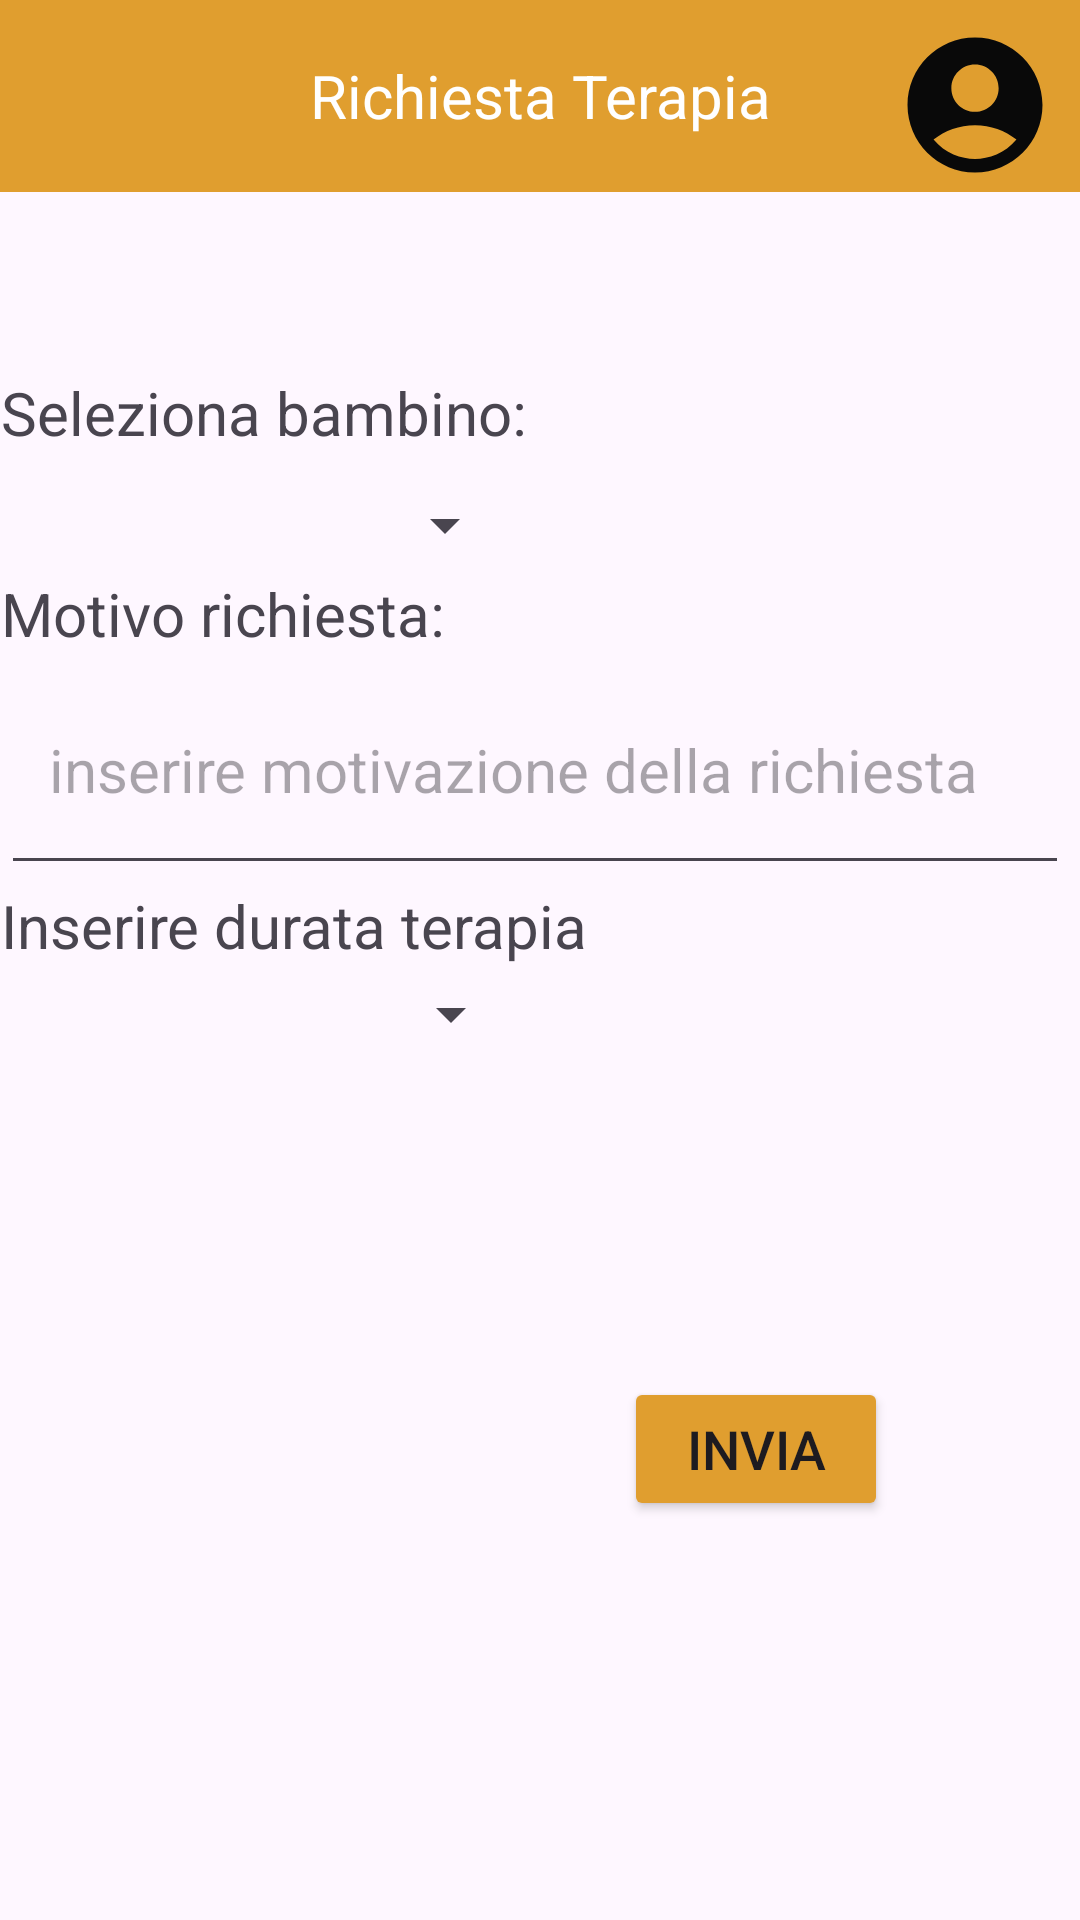

Where icons sit on this 1080 x 1920 app screen, as bbox(x1, y1, x2, y2):
account circle: bbox(907, 37, 1043, 173)
